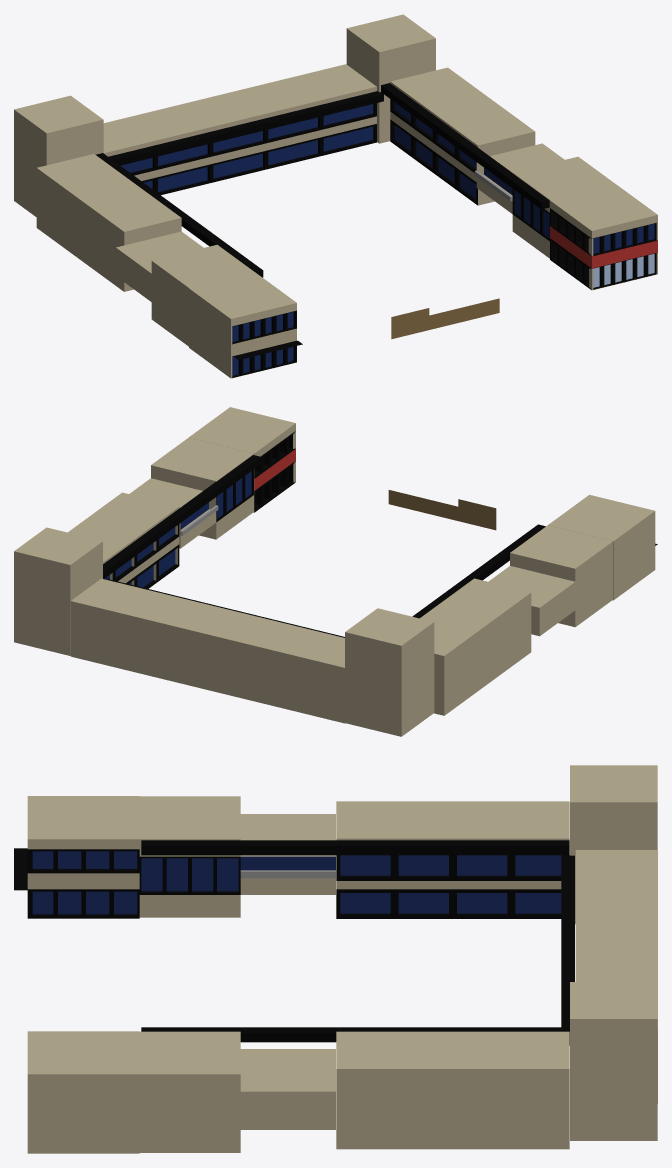
The model's file is PlazaChipinque.fbx.
The picture shows the model from 3 angles, top to bottom: view 1: azimuth 30°, elevation 25°; view 2: azimuth 150°, elevation 25°; view 3: azimuth 270°, elevation 25°; orthographic projection. The views are drawn at different scales.
Parts seen in each view (by area): view 1: Cube.005, Cube.003, Cube.001, Cube, Cube.006, Cube.004, Cube.002, Plane.004, Plane.003, Plane, Plane.002; view 2: Cube.005, Cube.003, Cube.001, Cube.004, Cube.002, Cube.006, Cube, Plane.003, Plane, Plane.002; view 3: Cube.001, Cube.003, Cube.002, Cube, Cube.006, Cube.005, Cube.004, Plane.002, Plane.003, Plane.004, Plane.001.
Part boxes in pixels (bbox=[...]): Cube.005: bbox=[103, 64, 376, 194]; Cube.003: bbox=[36, 154, 254, 346]; Cube.001: bbox=[390, 67, 615, 258]; Cube: bbox=[550, 184, 657, 290]; Cube.006: bbox=[189, 272, 296, 378]; Cube.004: bbox=[14, 95, 103, 216]; Cube.002: bbox=[346, 14, 435, 143]; Plane.004: bbox=[108, 91, 383, 165]; Plane.003: bbox=[381, 83, 549, 209]; Plane: bbox=[391, 298, 499, 339]; Plane.002: bbox=[95, 153, 263, 277]; Cube.005: bbox=[70, 578, 345, 723]; Cube.003: bbox=[420, 525, 612, 715]; Cube.001: bbox=[68, 437, 253, 588]; Cube.004: bbox=[345, 608, 434, 736]; Cube.002: bbox=[14, 527, 102, 655]; Cube.006: bbox=[548, 495, 655, 600]; Cube: bbox=[189, 407, 295, 512]; Plane.003: bbox=[103, 455, 261, 578]; Plane: bbox=[388, 490, 496, 530]; Plane.002: bbox=[412, 524, 545, 618]; Cube.001: bbox=[139, 1031, 569, 1152]; Cube.003: bbox=[139, 796, 569, 918]; Cube.002: bbox=[570, 982, 657, 1140]; Cube: bbox=[27, 1031, 139, 1153]; Cube.006: bbox=[27, 796, 139, 918]; Cube.005: bbox=[575, 850, 657, 1103]; Cube.004: bbox=[570, 765, 657, 924]; Plane.002: bbox=[141, 840, 569, 855]; Plane.003: bbox=[141, 1027, 569, 1042]; Plane.004: bbox=[561, 855, 574, 1045]; Plane.001: bbox=[14, 848, 27, 890].
Bounding box in the file's own units: 9720 × 2000 × 9508.
